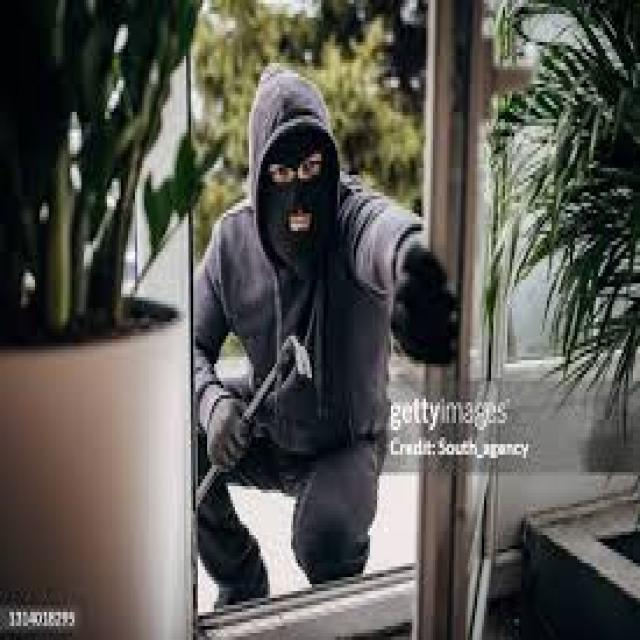intrusion detected: (191, 57, 460, 618)
